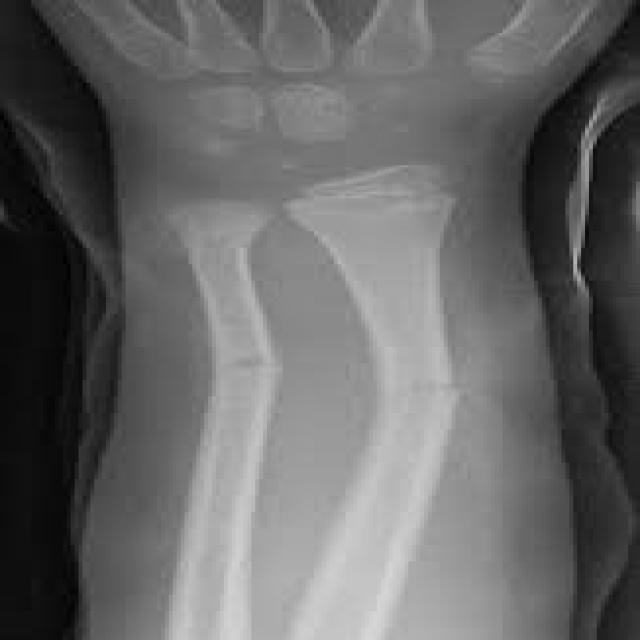bone: (176, 296, 510, 436)
